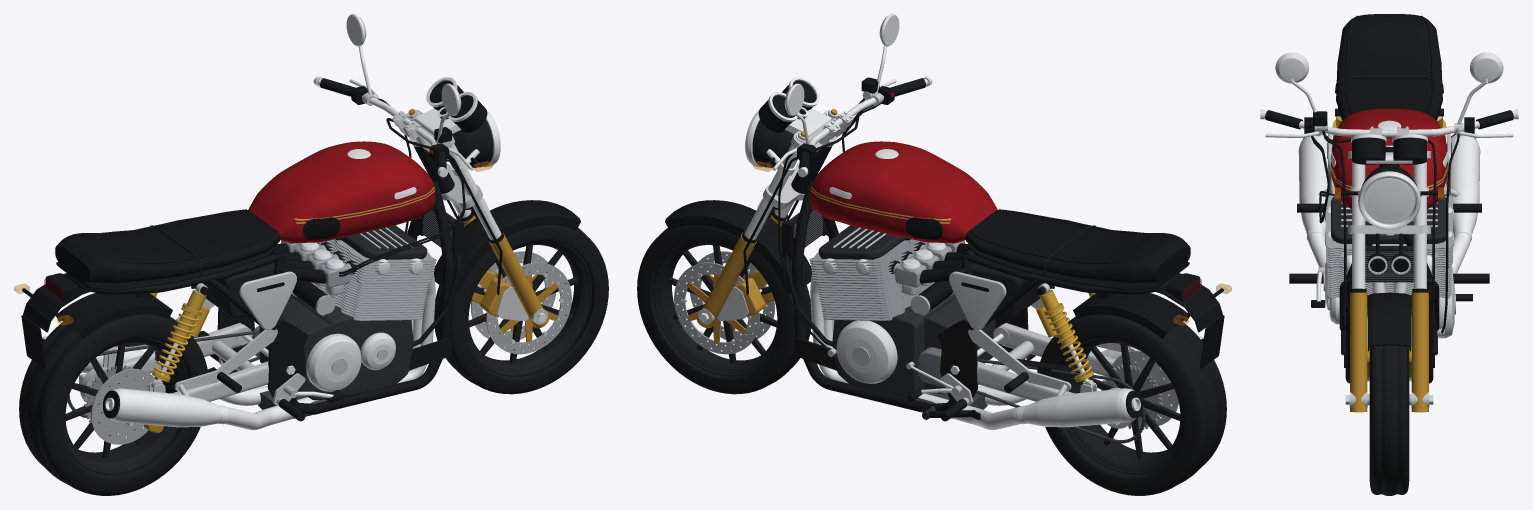
The model's file is roadster-v2.glb.
3 renders of one model, left to right at view 1: azimuth 30°, elevation 25°; view 2: azimuth 150°, elevation 25°; view 3: azimuth 270°, elevation 25°, orthographic. The views are drawn at different scales.
Parts seen in each view (by area): view 1: spin_rear-wheel|rubber #17181a, tank|paint, seat|plastic #111214 roughness=0.75, spin_front-wheel|rubber #17181a, frame|painted_metal #141518 roughness=0.3, silencers|chrome, cylinders|aluminium #9ea4aa roughness=0.34, crankcase|aluminium #2a2c30 roughness=0.42, spin_front-wheel|painted_metal #1b1c1f roughness=0.32, spin_rear-wheel|painted_metal #1b1c1f roughness=0.32, front-mudguard|painted_metal #121316 roughness=0.25, frame|painted_metal #141518 roughness=0.45 (+33 smaller); view 2: tank|paint, spin_rear-wheel|rubber #17181a, seat|plastic #111214 roughness=0.75, spin_front-wheel|rubber #17181a, frame|painted_metal #141518 roughness=0.3, spin_rear-wheel|painted_metal #1b1c1f roughness=0.32, cylinders|aluminium #9ea4aa roughness=0.34, spin_front-wheel|painted_metal #1b1c1f roughness=0.32, silencers|chrome, crankcase|aluminium #2a2c30 roughness=0.42, front-mudguard|painted_metal #121316 roughness=0.25, frame|painted_metal #141518 roughness=0.45 (+36 smaller); view 3: seat|plastic #111214 roughness=0.75, spin_front-wheel|rubber #17181a, silencers|chrome, fork-legs|aluminium #b8892e roughness=0.28, tank|paint, headlight|chrome, fork-legs|chrome, cylinders|aluminium #9ea4aa roughness=0.34, front-mudguard|painted_metal #121316 roughness=0.25, mirrors|chrome, headlight|glass #e6edf2 opacity=0.35, clocks|plastic #111214 roughness=0.3 (+24 smaller).
Part boxes in pixels (left/top/right/bottom): spin_rear-wheel|rubber #17181a: left=19, top=314, right=208, bottom=495; tank|paint: left=248, top=141, right=435, bottom=243; seat|plastic #111214 roughness=0.75: left=55, top=210, right=280, bottom=283; spin_front-wheel|rubber #17181a: left=434, top=225, right=608, bottom=394; frame|painted_metal #141518 roughness=0.3: left=67, top=146, right=454, bottom=414; silencers|chrome: left=42, top=336, right=318, bottom=430; cylinders|aluminium #9ea4aa roughness=0.34: left=311, top=239, right=436, bottom=320; crankcase|aluminium #2a2c30 roughness=0.42: left=259, top=293, right=413, bottom=400; spin_front-wheel|painted_metal #1b1c1f roughness=0.32: left=466, top=240, right=591, bottom=376; spin_rear-wheel|painted_metal #1b1c1f roughness=0.32: left=63, top=338, right=187, bottom=474; front-mudguard|painted_metal #121316 roughness=0.25: left=434, top=200, right=580, bottom=293; frame|painted_metal #141518 roughness=0.45: left=217, top=238, right=452, bottom=402; tank|paint: left=810, top=141, right=997, bottom=243; spin_rear-wheel|rubber #17181a: left=1040, top=314, right=1226, bottom=495; seat|plastic #111214 roughness=0.75: left=965, top=210, right=1190, bottom=283; spin_front-wheel|rubber #17181a: left=637, top=225, right=811, bottom=394; frame|painted_metal #141518 roughness=0.3: left=791, top=146, right=1178, bottom=412; spin_rear-wheel|painted_metal #1b1c1f roughness=0.32: left=1058, top=338, right=1182, bottom=474; cylinders|aluminium #9ea4aa roughness=0.34: left=809, top=239, right=934, bottom=320; spin_front-wheel|painted_metal #1b1c1f roughness=0.32: left=654, top=240, right=779, bottom=376; silencers|chrome: left=918, top=336, right=1203, bottom=430; crankcase|aluminium #2a2c30 roughness=0.42: left=832, top=293, right=995, bottom=398; front-mudguard|painted_metal #121316 roughness=0.25: left=665, top=200, right=811, bottom=293; frame|painted_metal #141518 roughness=0.45: left=793, top=238, right=1028, bottom=402; seat|plastic #111214 roughness=0.75: left=1336, top=14, right=1442, bottom=119; spin_front-wheel|rubber #17181a: left=1369, top=345, right=1409, bottom=495; silencers|chrome: left=1298, top=134, right=1480, bottom=273; fork-legs|aluminium #b8892e roughness=0.28: left=1350, top=292, right=1428, bottom=412; tank|paint: left=1331, top=109, right=1447, bottom=209; headlight|chrome: left=1350, top=171, right=1428, bottom=274; fork-legs|chrome: left=1352, top=162, right=1426, bottom=288; cylinders|aluminium #9ea4aa roughness=0.34: left=1326, top=195, right=1452, bottom=298; front-mudguard|painted_metal #121316 roughness=0.25: left=1368, top=292, right=1410, bottom=351; mirrors|chrome: left=1275, top=52, right=1503, bottom=124; headlight|glass #e6edf2 opacity=0.35: left=1364, top=178, right=1414, bottom=224; clocks|plastic #111214 roughness=0.3: left=1352, top=137, right=1426, bottom=164.
Bounding box in the file's own units: 2.09 × 1.28 × 0.798.
